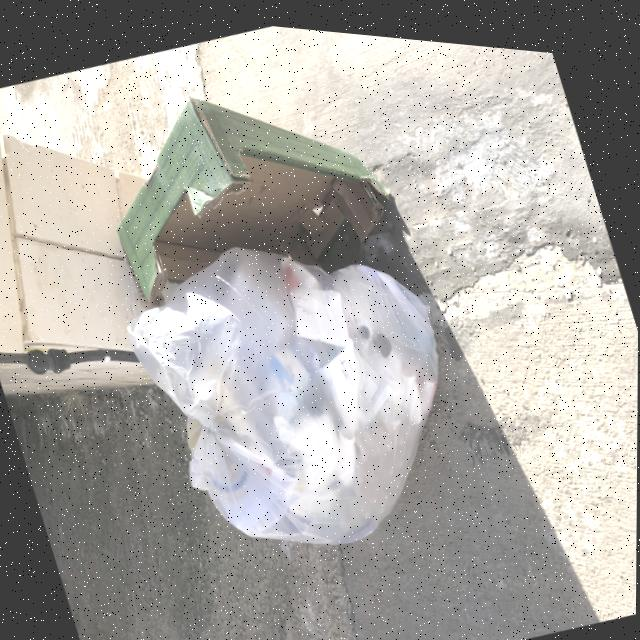Other: (80, 32, 411, 331)
Recycled Waste -Grey or Green Bag-: (107, 179, 495, 595)
